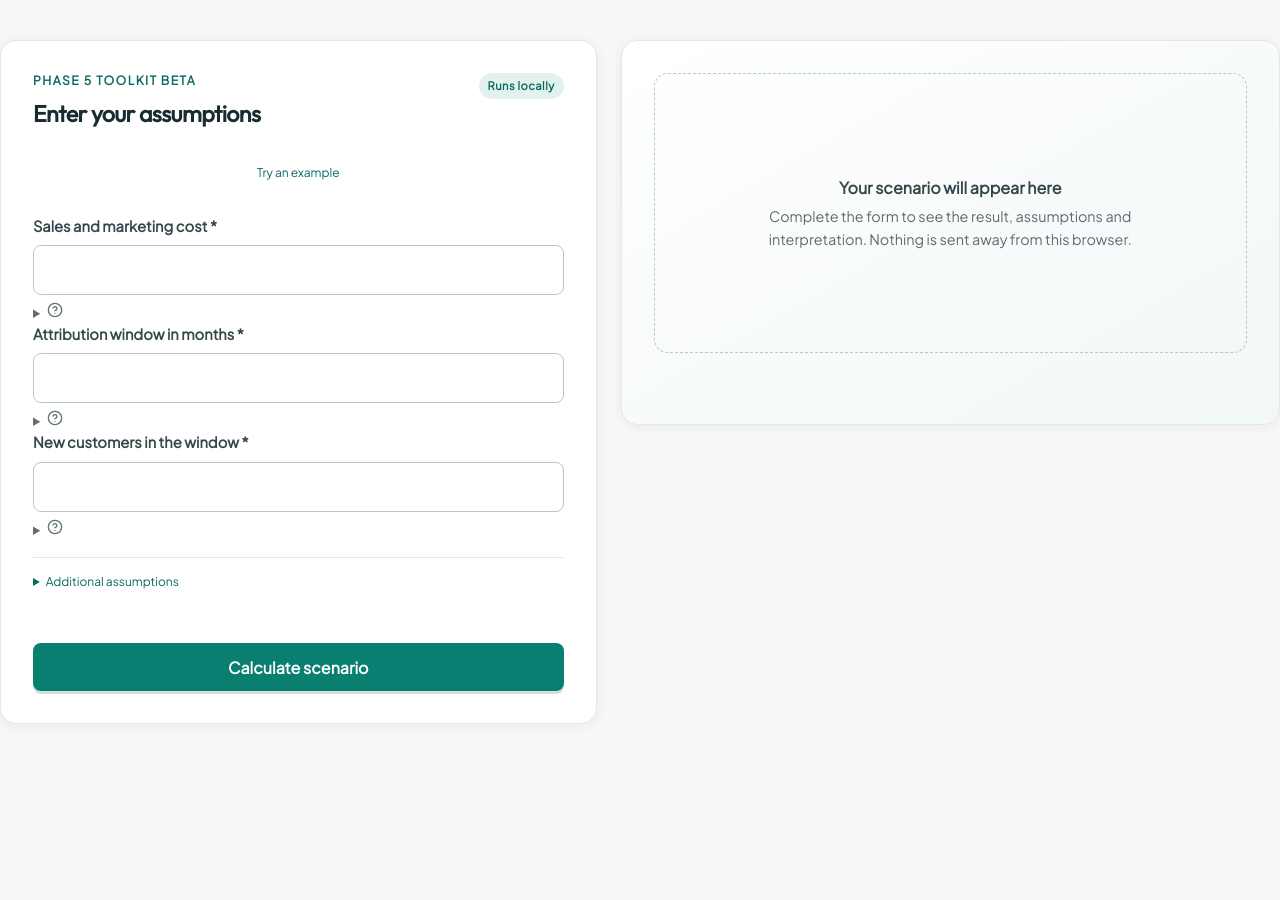
Phase 5 calculator form integration › renders a CAC result with the attribution boundary and CSV action
Click the button "Try an example": [298, 173] box [33, 151, 564, 195]
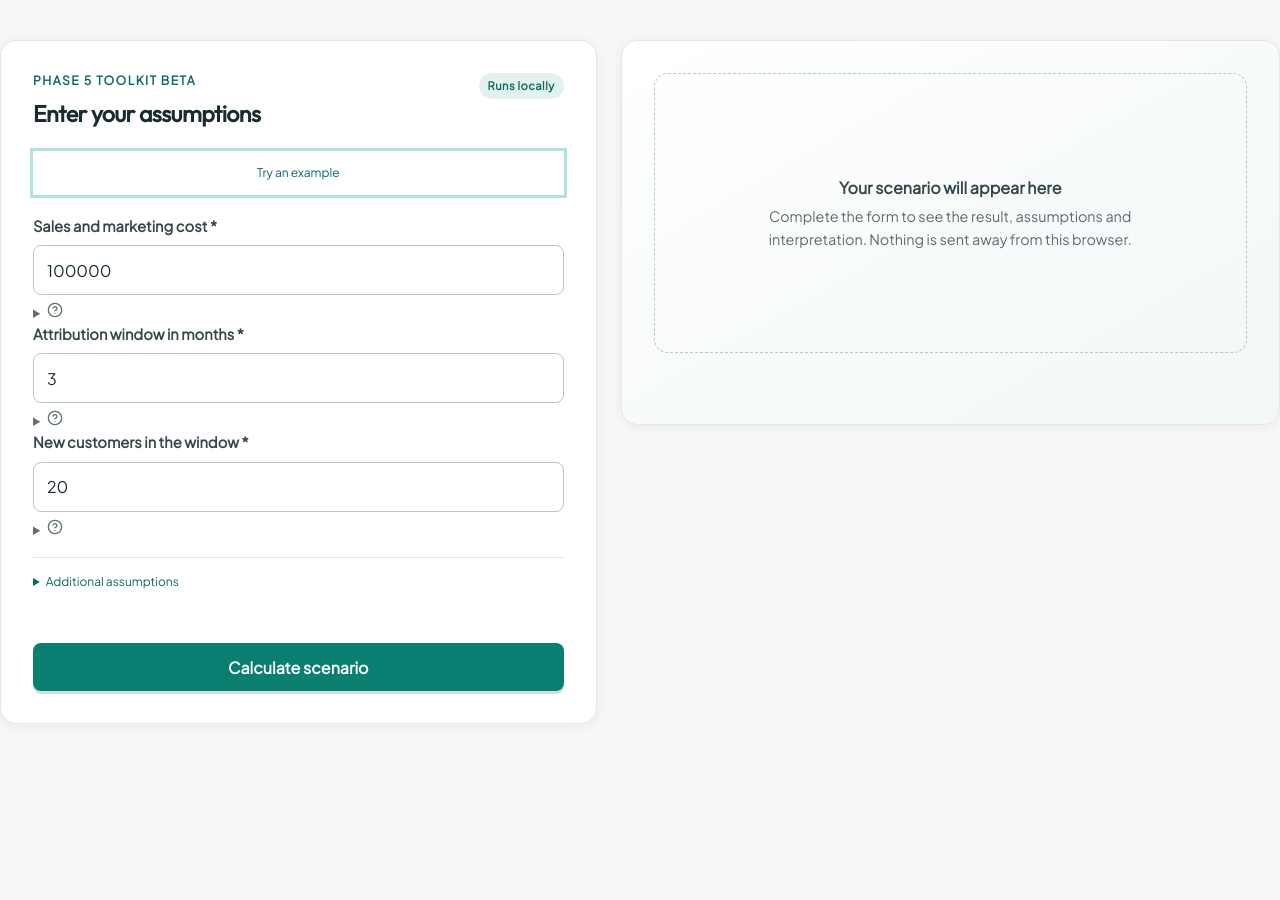
Click the button "Calculate scenario": [298, 667] box [33, 643, 564, 691]
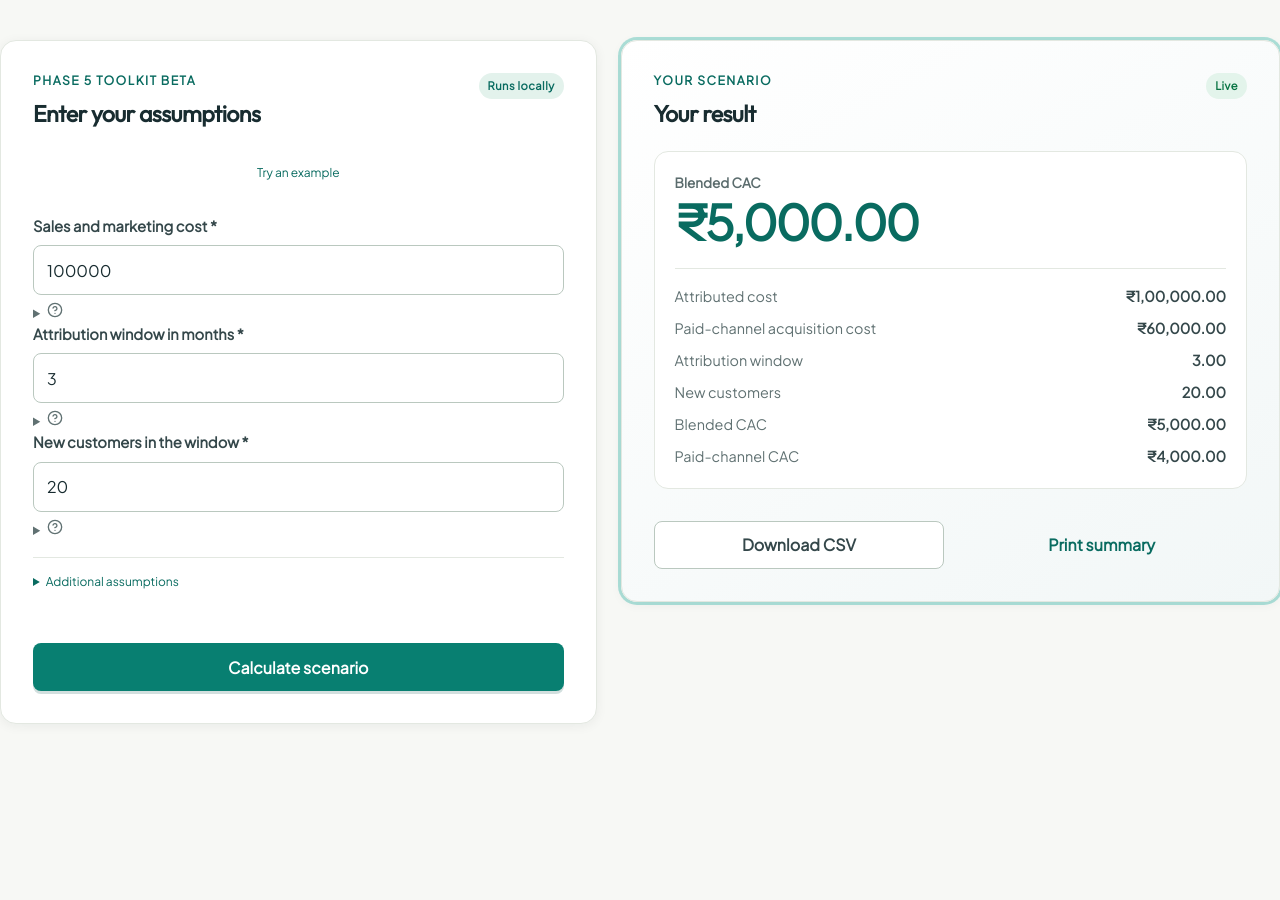
Expected: the 1st text "₹5,000.00" is shown, [675, 191, 918, 252]
Expected: the button "Download CSV" is shown, [654, 521, 944, 569]
